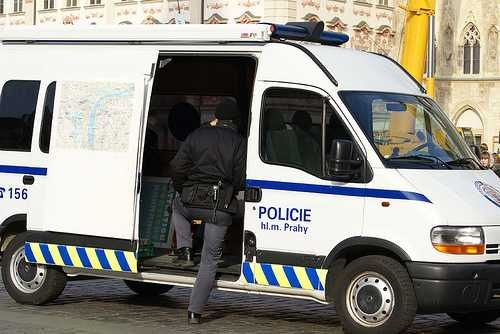Police Van: (4, 10, 500, 332)
